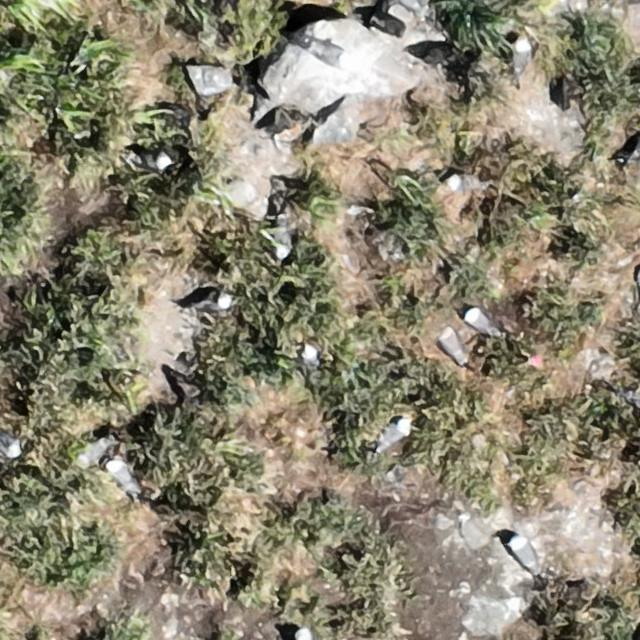umineko: (295, 34, 355, 69), (378, 418, 412, 448), (509, 536, 537, 571), (440, 332, 468, 366), (110, 460, 138, 494), (464, 307, 497, 334), (77, 440, 108, 464), (191, 295, 232, 313), (270, 223, 291, 258), (448, 174, 487, 191), (138, 152, 173, 170), (512, 39, 530, 73), (1, 431, 22, 457), (301, 343, 320, 368), (294, 627, 318, 639)
